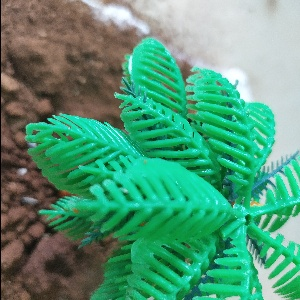plant: (22, 41, 300, 284)
